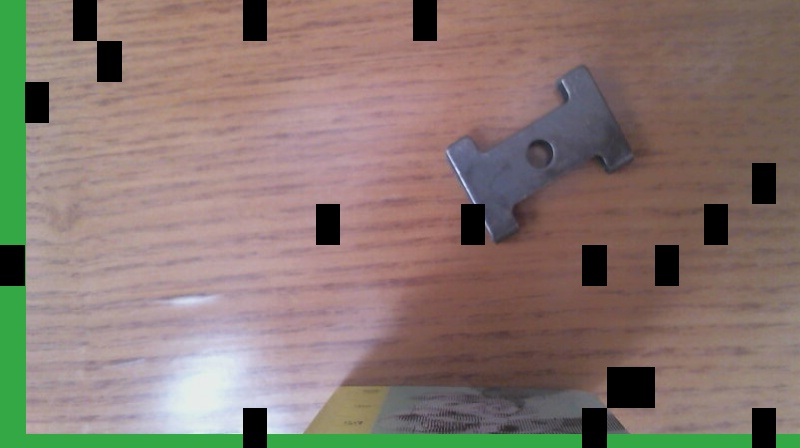O002: (437, 59, 638, 246)
